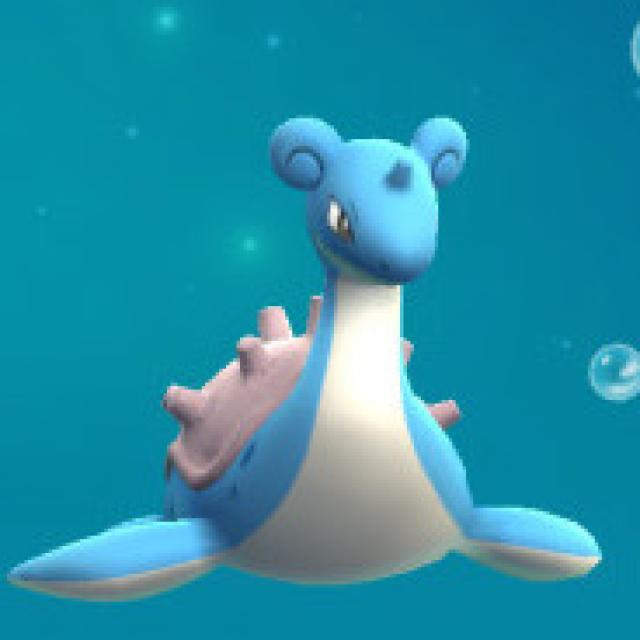Lapras: (17, 109, 600, 615)
